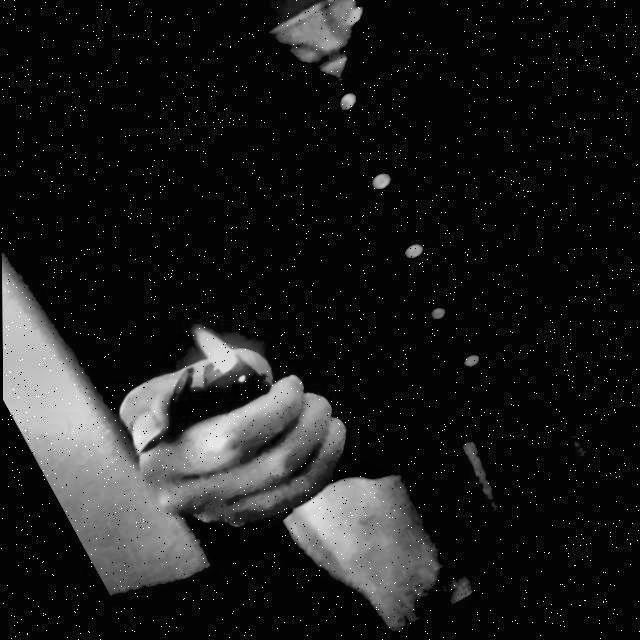Fire: (186, 316, 244, 381)
